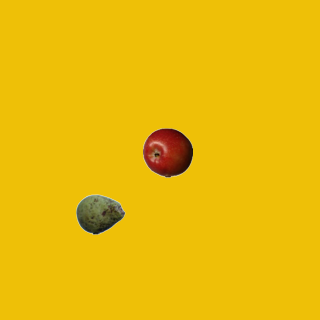Apple Braeburn: (142, 127, 192, 177)
Pear Stone: (75, 189, 125, 239)
